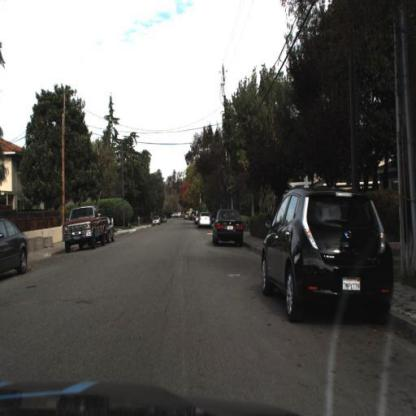car: (261, 180, 395, 327), (59, 202, 108, 258), (209, 205, 249, 256), (1, 217, 30, 285), (105, 210, 117, 245), (195, 210, 214, 232), (152, 215, 164, 230)
